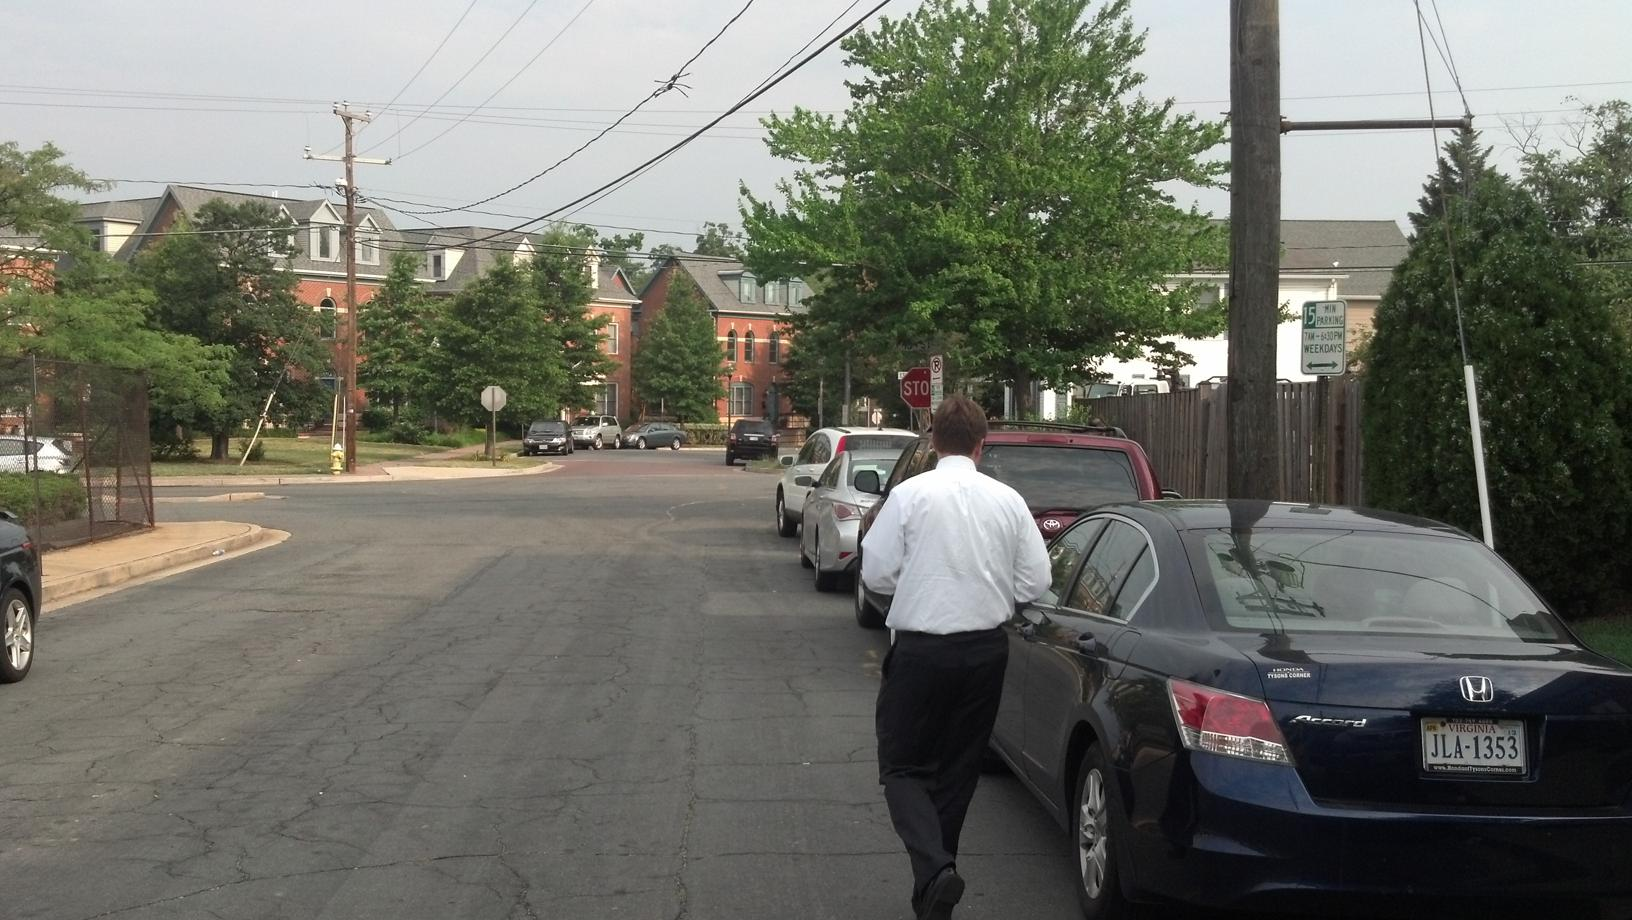car: (1060, 482, 1614, 913)
person: (868, 384, 1023, 898)
